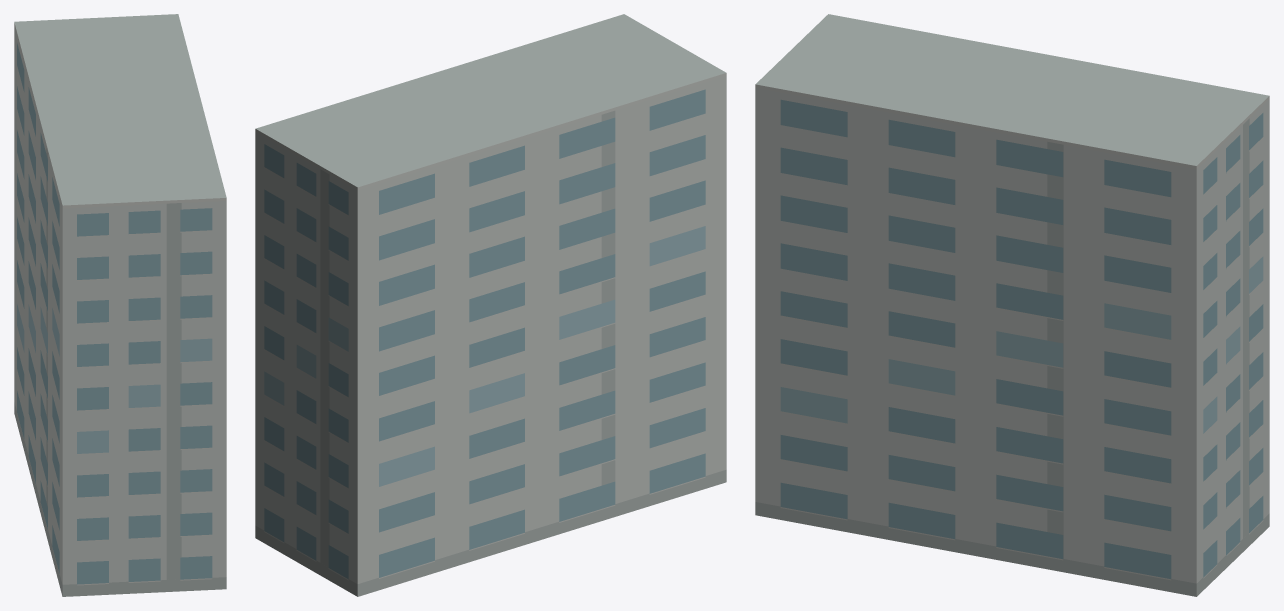
The model's file is residential-fe5418bd-4133-4652-99ed-4c0f16bb9080.glb.
The picture shows the model from 3 angles, left to right: view 1: azimuth 30°, elevation 25°; view 2: azimuth 150°, elevation 25°; view 3: azimuth 270°, elevation 25°; orthographic projection. The views are drawn at different scales.
Parts seen in each view (by area): view 1: residential-fe5418bd-4133-4652-99ed-4c0f16bb9080.tmp; view 2: residential-fe5418bd-4133-4652-99ed-4c0f16bb9080.tmp; view 3: residential-fe5418bd-4133-4652-99ed-4c0f16bb9080.tmp.
Boxes of the visible parts, bbox=[...] form: residential-fe5418bd-4133-4652-99ed-4c0f16bb9080.tmp: bbox=[14, 14, 226, 596]; residential-fe5418bd-4133-4652-99ed-4c0f16bb9080.tmp: bbox=[255, 14, 726, 596]; residential-fe5418bd-4133-4652-99ed-4c0f16bb9080.tmp: bbox=[755, 14, 1269, 596].
Bounding box in the file's own units: 24.23 × 32 × 34.62.
